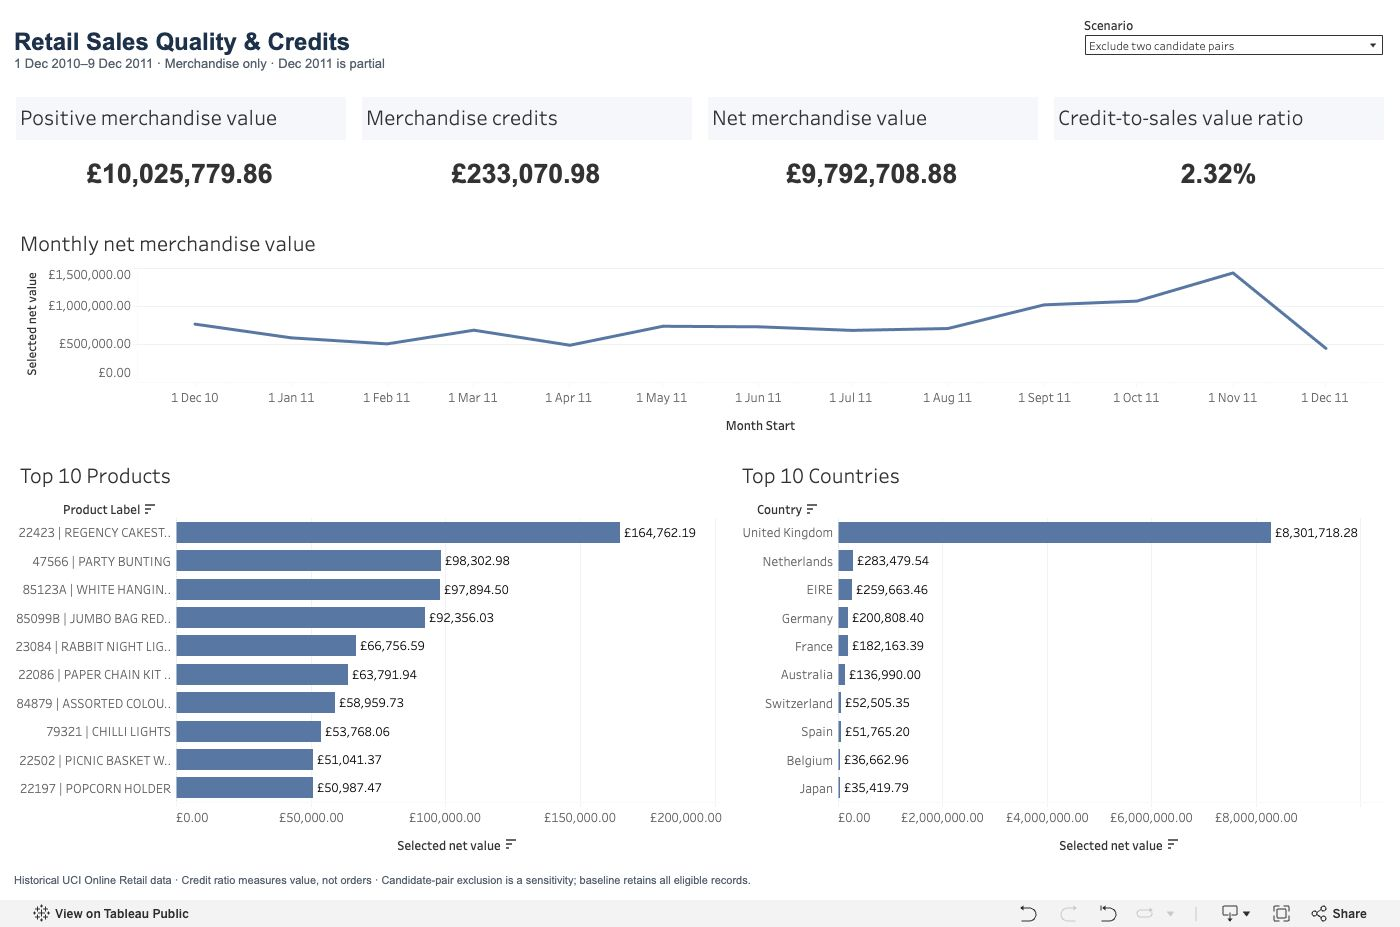

Layout of this report page (visuals, bound fields, positions):
{"tool":"tableau","page":{"name":"Retail Sales Quality","canvas":[1400,900],"ordinal":0},"visuals":[{"type":"text","box":[14,9,1064,81]},{"type":"parameter","param":"[Parameters].[Parameter 1861941957734400]","box":[1078,9,308,81]},{"type":"worksheet","title":"Positive merchandise value","mark":"Text","box":[14,90,343,126]},{"type":"worksheet","title":"Merchandise credits","mark":"Text","box":[357,90,343,126]},{"type":"worksheet","title":"Net merchandise value","mark":"Text","box":[700,90,343,126]},{"type":"worksheet","title":"Credit-to-sales value ratio","mark":"Text","box":[1043,90,343,126]},{"type":"worksheet","title":"Monthly net merchandise value","mark":"Line","rows":["Calculation_1861941960839171"],"cols":["month_start"],"box":[14,216,1372,306]},{"type":"worksheet","title":"Top 10 Products","mark":"Automatic","rows":["product_label"],"cols":["Calculation_1861941960839171"],"box":[14,522,686,342]},{"type":"worksheet","title":"Top 10 Countries","mark":"Automatic","rows":["Country"],"cols":["Calculation_1861941960839171"],"box":[700,522,686,342]},{"type":"text","box":[14,864,1372,27]}]}

Visuals, with their boxes on the page's 1400x900 design canvas (x1, y1, x2, y2). These are canvas units, not pixel positions in the 1400x927 screenshot, which may show the page scaled, cropped or inside an application window:
text: Rect(14, 9, 1078, 90)
parameter: Rect(1078, 9, 1386, 90)
"Positive merchandise value" worksheet (Text marks): Rect(14, 90, 357, 216)
"Merchandise credits" worksheet (Text marks): Rect(357, 90, 700, 216)
"Net merchandise value" worksheet (Text marks): Rect(700, 90, 1043, 216)
"Credit-to-sales value ratio" worksheet (Text marks): Rect(1043, 90, 1386, 216)
"Monthly net merchandise value" worksheet (Line marks): Rect(14, 216, 1386, 522)
"Top 10 Products" worksheet: Rect(14, 522, 700, 864)
"Top 10 Countries" worksheet: Rect(700, 522, 1386, 864)
text: Rect(14, 864, 1386, 891)
